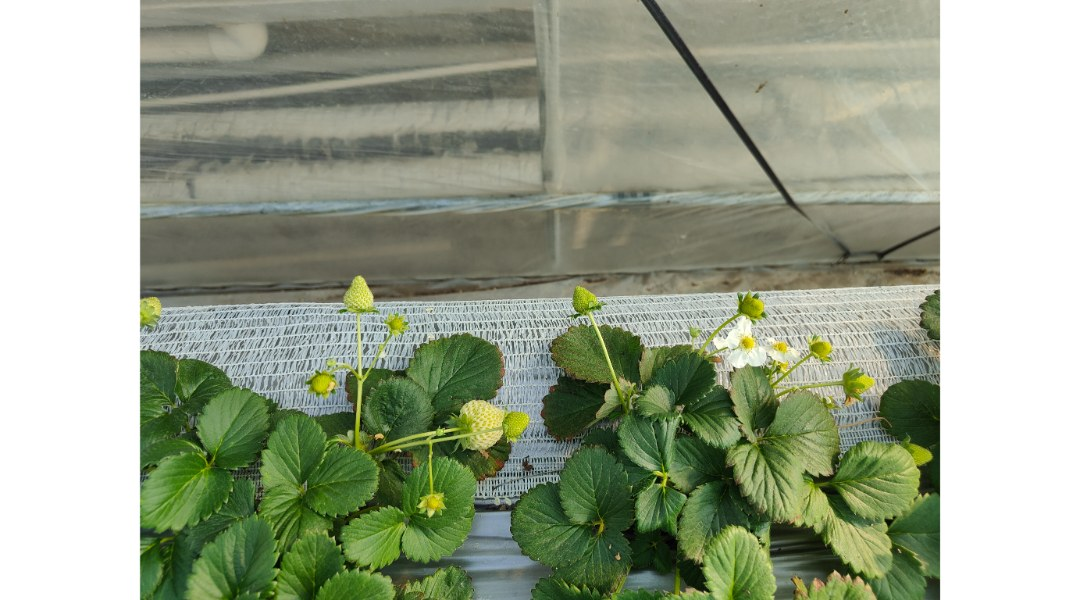berry: (455, 395, 510, 454), (834, 363, 878, 420), (336, 269, 382, 318), (566, 284, 605, 317), (805, 332, 842, 365), (128, 293, 161, 328), (417, 491, 455, 520), (305, 367, 340, 398), (501, 409, 534, 437), (382, 313, 414, 339)
flower: (725, 319, 772, 367), (767, 336, 801, 367)
strain: (591, 323, 628, 408), (350, 388, 368, 448), (351, 315, 363, 369)
